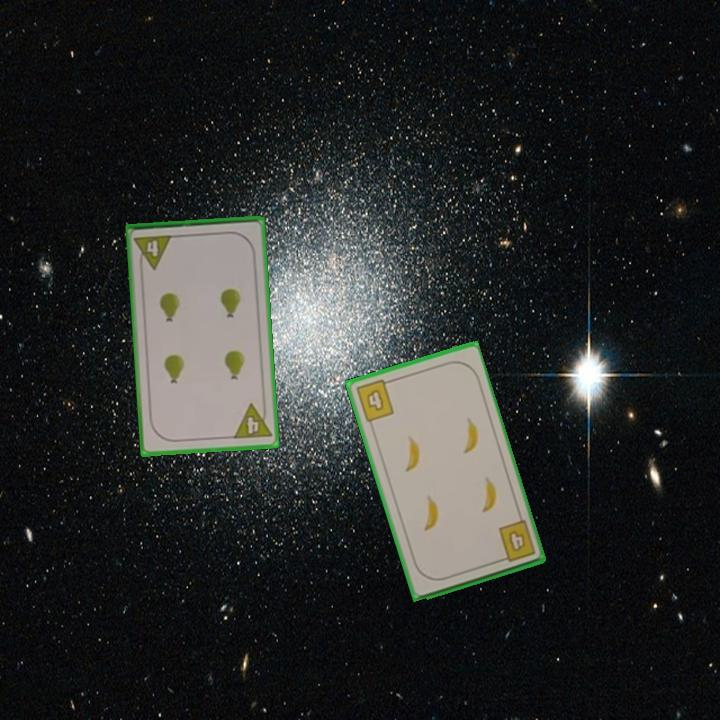4b: (352, 376, 397, 425), (494, 517, 538, 565)
4p: (230, 400, 274, 442), (131, 231, 175, 272)
